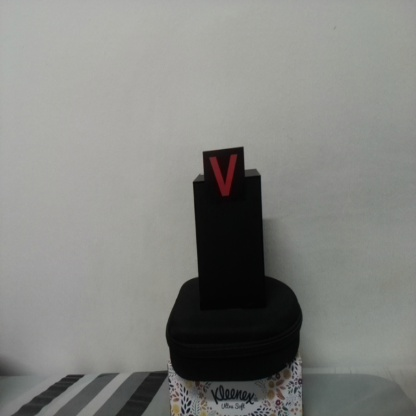id_11: (203, 149, 246, 202)
